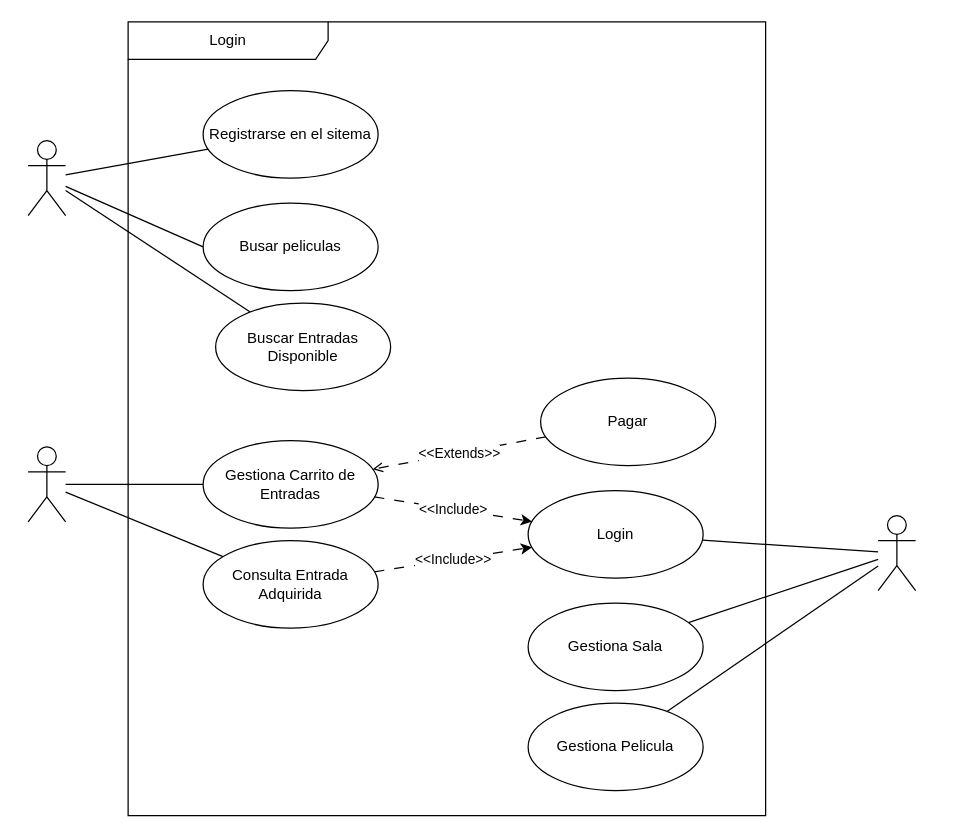
Image size: 965x838. Some labels were removed from this diagram. The shapes that lost their labels are listed below. From the top down, each one's centre as x and y in pixels, then its label:
At (46,177): "Usuario".
At (46,484): "Cliente".
At (896,552): "Administrador".
